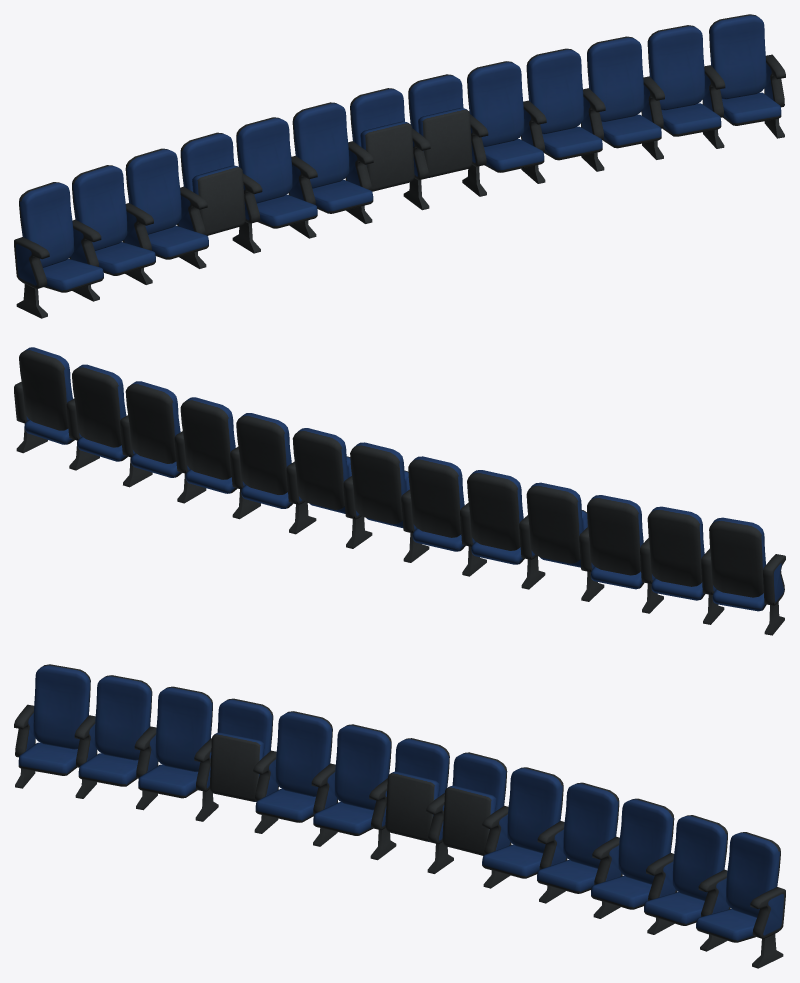
Rendered from CinemaArmChair02b.FBX.
3 views of the same model, one above another, from view 1: azimuth 30°, elevation 25°; view 2: azimuth 150°, elevation 25°; view 3: azimuth 330°, elevation 25° (orthographic).
Parts seen in each view (by area): view 1: CinemaArmChair02b; view 2: CinemaArmChair02b; view 3: CinemaArmChair02b.
Boxes of the visible parts, x1=… form: CinemaArmChair02b: x1=14, y1=14, x2=785, y2=318; CinemaArmChair02b: x1=14, y1=347, x2=785, y2=635; CinemaArmChair02b: x1=14, y1=664, x2=785, y2=968.
Bounding box in the file's own units: 1124 × 154 × 130.
